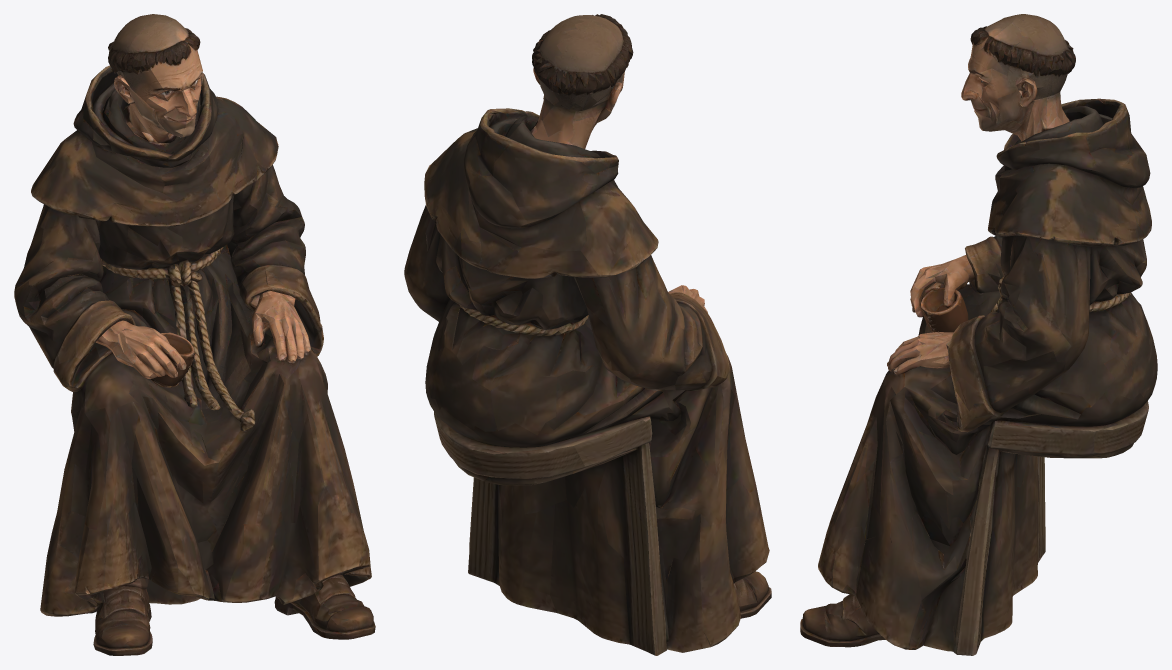
File: moine.glb
3 views of the same model, side by side, from view 1: azimuth 30°, elevation 25°; view 2: azimuth 150°, elevation 25°; view 3: azimuth 270°, elevation 25° (orthographic). The views are drawn at different scales.
Parts seen in each view (by area): view 1: Mesh_0; view 2: Mesh_0; view 3: Mesh_0.
Boxes of the visible parts, left/top/right/bottom form: Mesh_0: left=14, top=14, right=375, bottom=655; Mesh_0: left=404, top=14, right=771, bottom=655; Mesh_0: left=800, top=14, right=1157, bottom=655.
Size of the model in its own units: 0.9694 by 1.9 by 1.08.
Materials: 1 (1 with a texture image).
